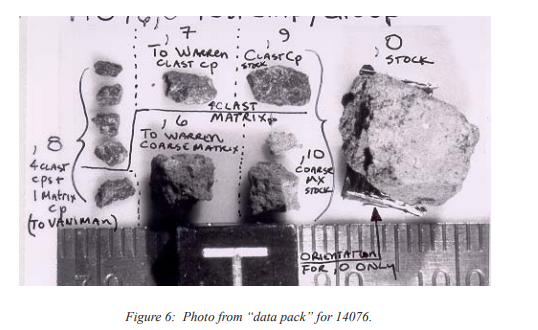Breccia: (341, 63, 455, 206), (143, 54, 212, 196), (246, 69, 313, 210), (77, 28, 113, 206)
